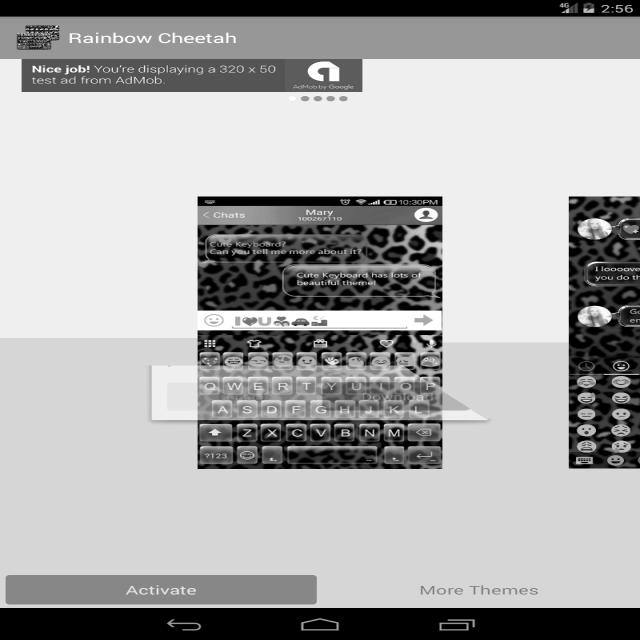Button: (6, 570, 326, 608)
ImageView: (197, 193, 445, 465), (570, 198, 636, 468), (16, 23, 54, 49)
TextView: (34, 61, 279, 85), (64, 29, 242, 45)
